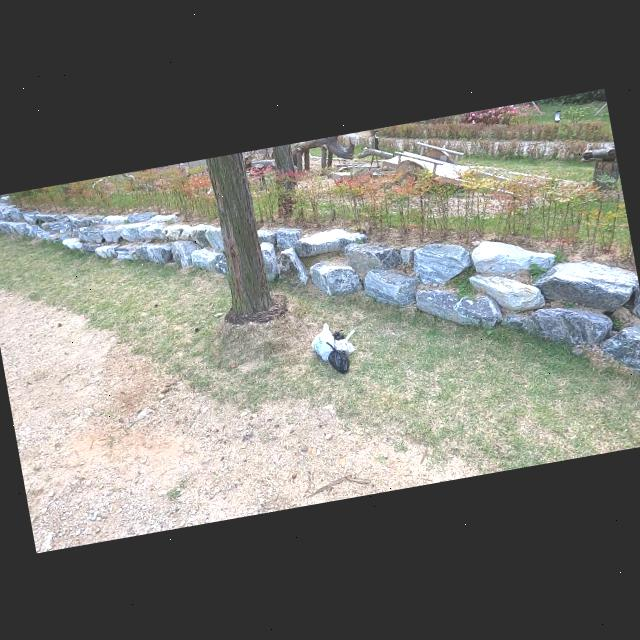trash: (307, 317, 341, 366), (323, 337, 352, 378), (332, 328, 358, 357), (328, 328, 348, 344)
